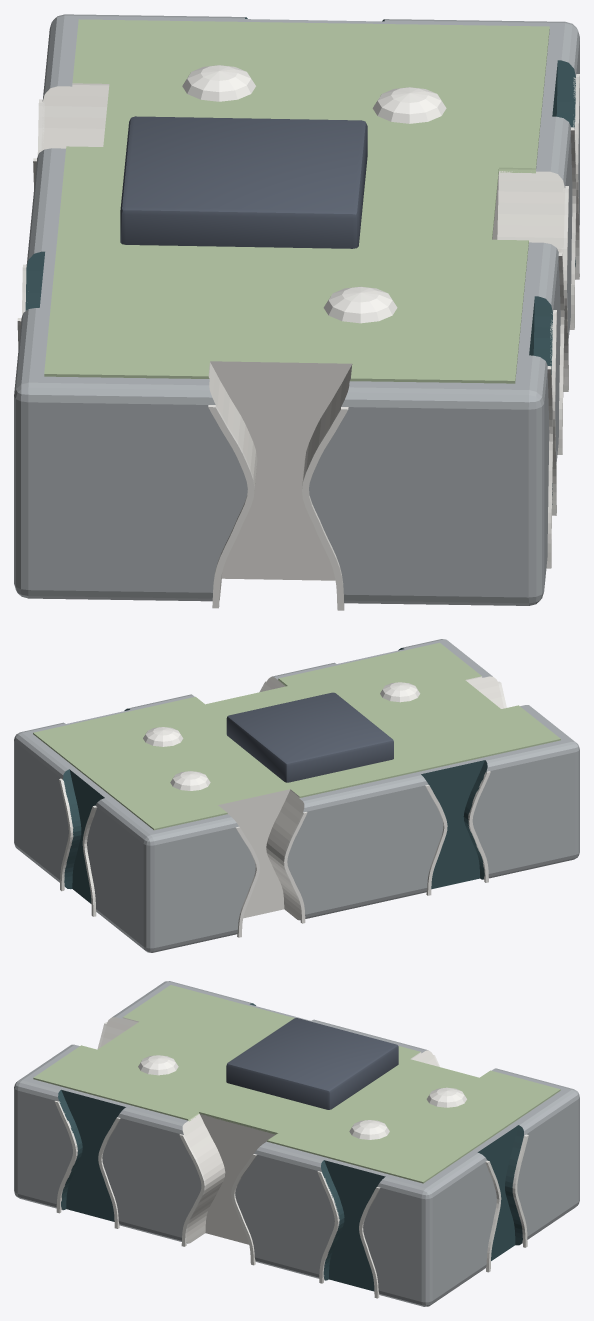
Rendered from opera.glb.
The picture shows the model from 3 angles, top to bottom: view 1: azimuth 30°, elevation 25°; view 2: azimuth 150°, elevation 25°; view 3: azimuth 270°, elevation 25°; orthographic projection. The views are drawn at different scales.
Visible parts, largest first — view 1: opera; view 2: opera; view 3: opera.
Part boxes in pixels (bbox=[...]): opera: bbox=[14, 14, 579, 610]; opera: bbox=[14, 639, 579, 952]; opera: bbox=[14, 981, 579, 1306].
Bounding box in the file's own units: 124 × 37.7 × 139.
